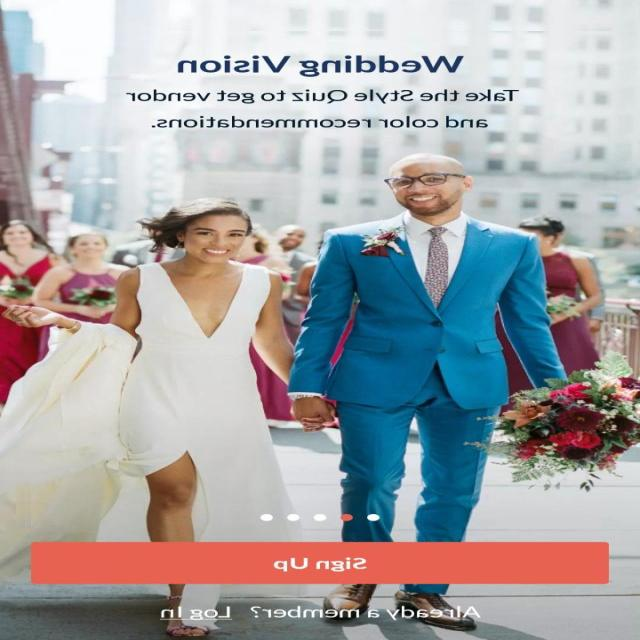BackgroundImage: (1, 0, 640, 639)
Text: (126, 89, 520, 128), (178, 55, 465, 77), (250, 605, 482, 619), (160, 605, 233, 620)
TextButton: (32, 542, 610, 584)
